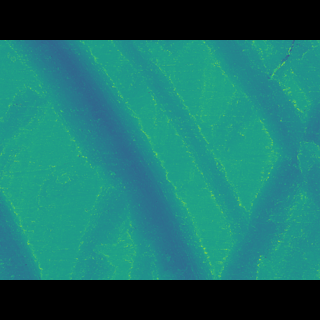Loch: (5, 69, 219, 250), (108, 69, 259, 219), (219, 114, 320, 250)
